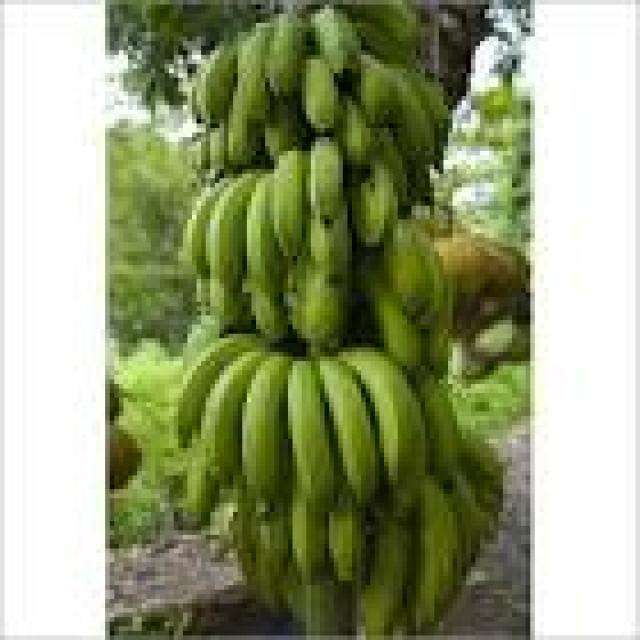banana: (339, 348, 425, 502), (179, 334, 260, 447), (320, 357, 379, 507), (202, 348, 265, 484), (412, 476, 461, 630), (243, 352, 292, 502), (380, 220, 447, 329), (288, 362, 338, 507), (362, 266, 425, 374), (206, 170, 260, 292), (362, 517, 411, 635), (247, 174, 287, 297), (293, 261, 347, 351), (448, 471, 498, 566), (407, 69, 452, 169), (183, 179, 228, 278), (394, 69, 438, 169), (421, 375, 461, 479), (234, 23, 274, 123), (270, 151, 306, 260), (352, 160, 397, 246), (343, 0, 420, 50), (256, 508, 292, 612), (192, 42, 237, 123), (311, 5, 361, 73), (266, 10, 306, 95), (307, 206, 351, 283), (330, 490, 365, 585), (293, 490, 329, 580), (462, 430, 502, 511), (229, 490, 260, 594), (375, 128, 415, 205), (224, 96, 265, 169), (307, 138, 342, 223), (357, 55, 397, 127), (352, 19, 415, 63), (183, 448, 219, 525), (302, 55, 338, 132), (206, 275, 251, 333), (339, 96, 374, 169), (266, 101, 310, 159), (426, 279, 452, 374), (252, 284, 287, 342), (183, 316, 223, 365), (279, 558, 306, 621), (206, 124, 228, 178)
